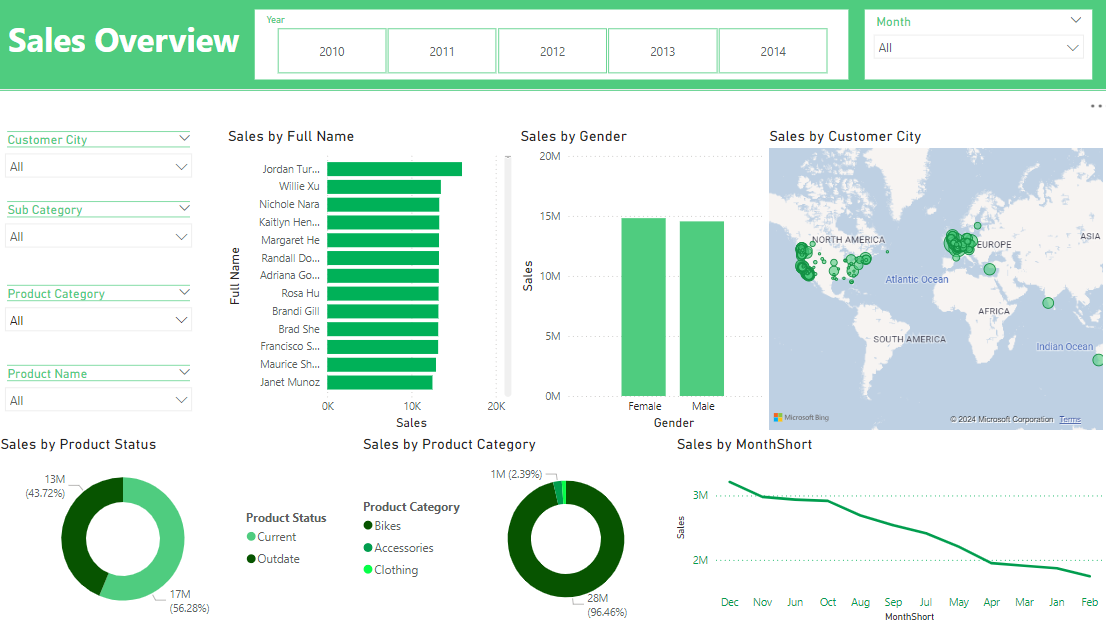

Layout of this report page (visuals, bound fields, positions):
{"tool":"powerbi","page":{"name":"Sales","canvas":[1280,720],"ordinal":0},"visuals":[{"type":"textbox","box":[0,0,1280,107.1],"z":0},{"type":"slicer","fields":{"Values":["DIM_Customer.Customer City"]},"box":[0,148.6,234.3,80],"z":1000},{"type":"slicer","fields":{"Values":["DIM_Product.Sub Category"]},"box":[0,228.6,234.3,95.7],"z":2000},{"type":"slicer","fields":{"Values":["DIM_Product.Product Category"]},"box":[0,324.3,234.3,91.4],"z":3000},{"type":"slicer","fields":{"Values":["DIM_Product.Product Name"]},"box":[0,415.7,234.3,84.3],"z":4000},{"type":"slicer","fields":{"Values":["DIM_Calender.Year"]},"box":[295.7,14.3,678.6,80],"z":5000},{"type":"slicer","fields":{"Values":["DIM_Calender.Month"]},"box":[992.9,14.3,260,80],"z":6000},{"type":"donutChart","fields":{"Category":["DIM_Product.Product Category"],"Y":["Key Measures.Sales"]},"box":[414.3,500,358.6,220],"z":8000},{"type":"lineChart","fields":{"Category":["DIM_Calender.MonthShort"],"Y":["Key Measures.Sales"]},"box":[772.9,500,497.1,220],"z":9000},{"type":"barChart","fields":{"Y":["Key Measures.Sales"],"Category":["DIM_Customer.Full Name"]},"box":[260,148.6,334.3,351.4],"z":10000},{"type":"clusteredColumnChart","fields":{"Y":["Key Measures.Sales"],"Category":["DIM_Customer.Gender"]},"box":[594.3,148.6,305.7,351.4],"z":11000},{"type":"map","fields":{"Category":["DIM_Customer.Customer City"],"Size":["Key Measures.Sales"]},"box":[878.6,148.6,391.4,351.4],"z":12000},{"type":"donutChart","fields":{"Y":["Key Measures.Sales"],"Category":["DIM_Product.Product Status"]},"box":[0,500,398.6,220],"z":12001}]}

Visuals, with their boxes in screenshot pixels (x1, y1, x2, y2), scaled from the page's 1280x720 canvas onto the 1106x624 screenshot:
textbox: 0, 0, 1105, 93
slicer - DIM_Customer.Customer City: 0, 129, 202, 198
slicer - DIM_Product.Sub Category: 0, 198, 202, 281
slicer - DIM_Product.Product Category: 0, 281, 202, 360
slicer - DIM_Product.Product Name: 0, 360, 202, 433
slicer - DIM_Calender.Year: 256, 12, 842, 82
slicer - DIM_Calender.Month: 858, 12, 1083, 82
donutChart - DIM_Product.Product Category x Key Measures.Sales: 358, 433, 668, 623
lineChart - DIM_Calender.MonthShort x Key Measures.Sales: 668, 433, 1097, 623
barChart - Key Measures.Sales x DIM_Customer.Full Name: 225, 129, 514, 433
clusteredColumnChart - Key Measures.Sales x DIM_Customer.Gender: 514, 129, 778, 433
map - DIM_Customer.Customer City x Key Measures.Sales: 759, 129, 1097, 433
donutChart - Key Measures.Sales x DIM_Product.Product Status: 0, 433, 344, 623
